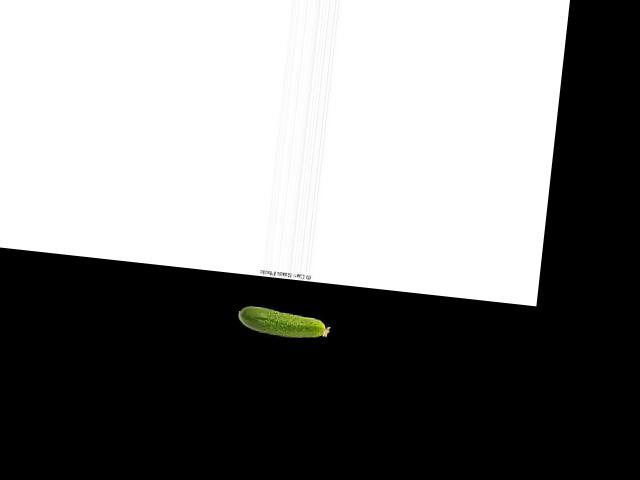cucumber: (236, 304, 331, 341)
